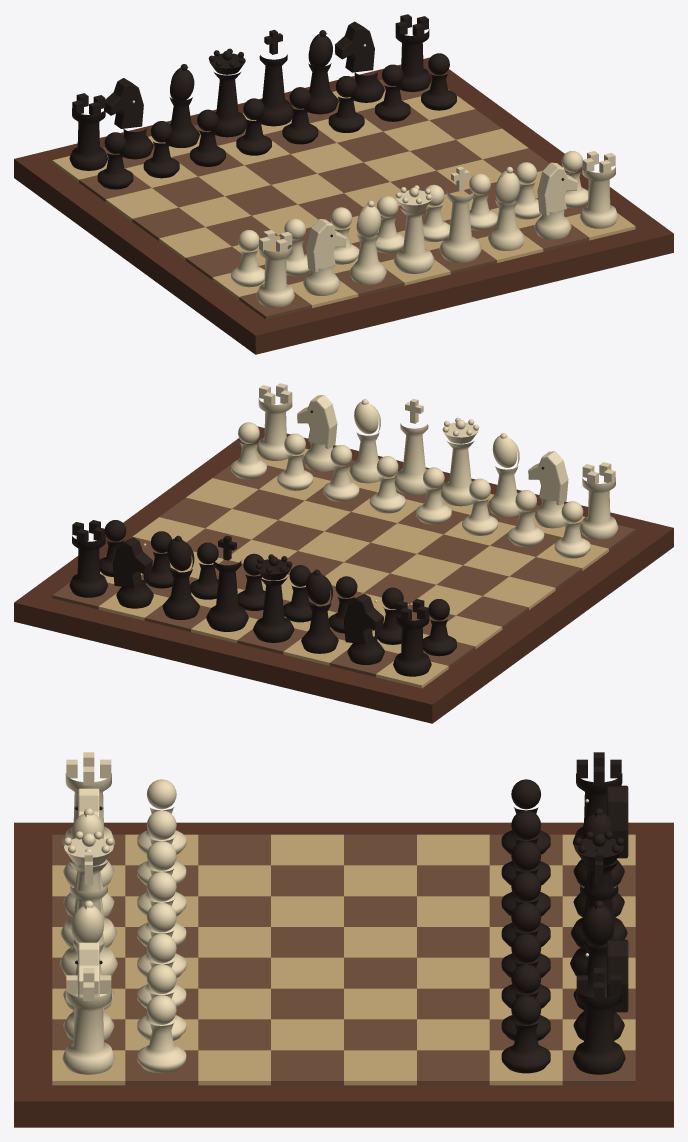
File: wooden-chess-set.glb
3 renders of one model, top to bottom at view 1: azimuth 30°, elevation 25°; view 2: azimuth 150°, elevation 25°; view 3: azimuth 270°, elevation 25°, orthographic. The views are drawn at different scales.
Parts seen in each view (by area): view 1: Original wooden chess set - 32 pieces, Ivory queen 4, Ivory knight 2, Ivory knight 7, Ebony knight 7, Ebony knight 2, Ebony queen 4, Ivory rook 1, Ebony rook 1, Ivory king 5, Ivory rook 8, Ebony rook 8 (+21 smaller); view 2: Original wooden chess set - 32 pieces, Ebony queen 4, Ebony knight 2, Ebony knight 7, Ivory queen 4, Ivory knight 2, Ivory knight 7, Ebony rook 1, Ivory rook 1, Ebony king 5, Ebony rook 8, Ivory rook 8 (+21 smaller); view 3: Original wooden chess set - 32 pieces, Ebony rook 8, Ivory rook 8, Ivory queen 4, Ebony pawn 8, Ivory pawn 8, Ebony queen 4, Ebony bishop 6, Ebony rook 1, Ebony knight 7, Ebony knight 2, Ivory rook 1 (+21 smaller).
Part boxes in pixels (bbox=[...]): Original wooden chess set - 32 pieces: bbox=[14, 57, 673, 354]; Ivory queen 4: bbox=[393, 185, 434, 273]; Ivory knight 2: bbox=[303, 219, 346, 295]; Ivory knight 7: bbox=[534, 162, 577, 239]; Ebony knight 7: bbox=[335, 21, 384, 102]; Ebony knight 2: bbox=[104, 78, 153, 159]; Ebony queen 4: bbox=[208, 48, 246, 137]; Ivory rook 1: bbox=[256, 230, 294, 307]; Ebony rook 1: bbox=[69, 93, 107, 170]; Ivory king 5: bbox=[439, 166, 481, 262]; Ivory rook 8: bbox=[580, 151, 618, 228]; Ebony rook 8: bbox=[395, 14, 431, 91]; Original wooden chess set - 32 pieces: bbox=[14, 426, 673, 723]; Ebony queen 4: bbox=[253, 554, 294, 642]; Ebony knight 2: bbox=[344, 593, 384, 664]; Ebony knight 7: bbox=[112, 537, 153, 608]; Ivory queen 4: bbox=[441, 417, 479, 506]; Ivory knight 2: bbox=[528, 451, 568, 528]; Ivory knight 7: bbox=[297, 395, 337, 471]; Ebony rook 1: bbox=[393, 599, 431, 676]; Ivory rook 1: bbox=[580, 462, 618, 539]; Ebony king 5: bbox=[206, 535, 248, 631]; Ebony rook 8: bbox=[69, 520, 107, 597]; Ivory rook 8: bbox=[256, 383, 292, 460]; Original wooden chess set - 32 pieces: bbox=[14, 822, 673, 1127]; Ebony rook 8: bbox=[573, 968, 625, 1074]; Ivory rook 8: bbox=[62, 968, 114, 1074]; Ivory queen 4: bbox=[60, 831, 116, 947]; Ebony pawn 8: bbox=[501, 995, 550, 1073]; Ivory pawn 8: bbox=[137, 995, 186, 1073]; Ebony queen 4: bbox=[571, 831, 627, 947]; Ebony bishop 6: bbox=[573, 900, 614, 1009]; Ebony rook 1: bbox=[572, 752, 622, 846]; Ebony knight 7: bbox=[573, 939, 628, 1040]; Ebony knight 2: bbox=[573, 785, 628, 886]; Ivory rook 1: bbox=[62, 752, 115, 846].
Size of the model in its own units: 1.72 by 0.4315 by 1.72.
